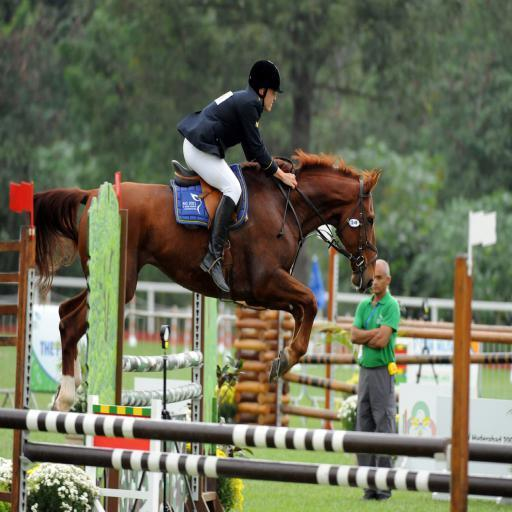horse: (33, 148, 379, 410)
